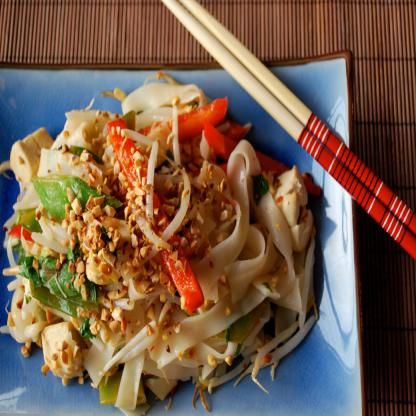Pad Thai: (0, 69, 342, 416)
